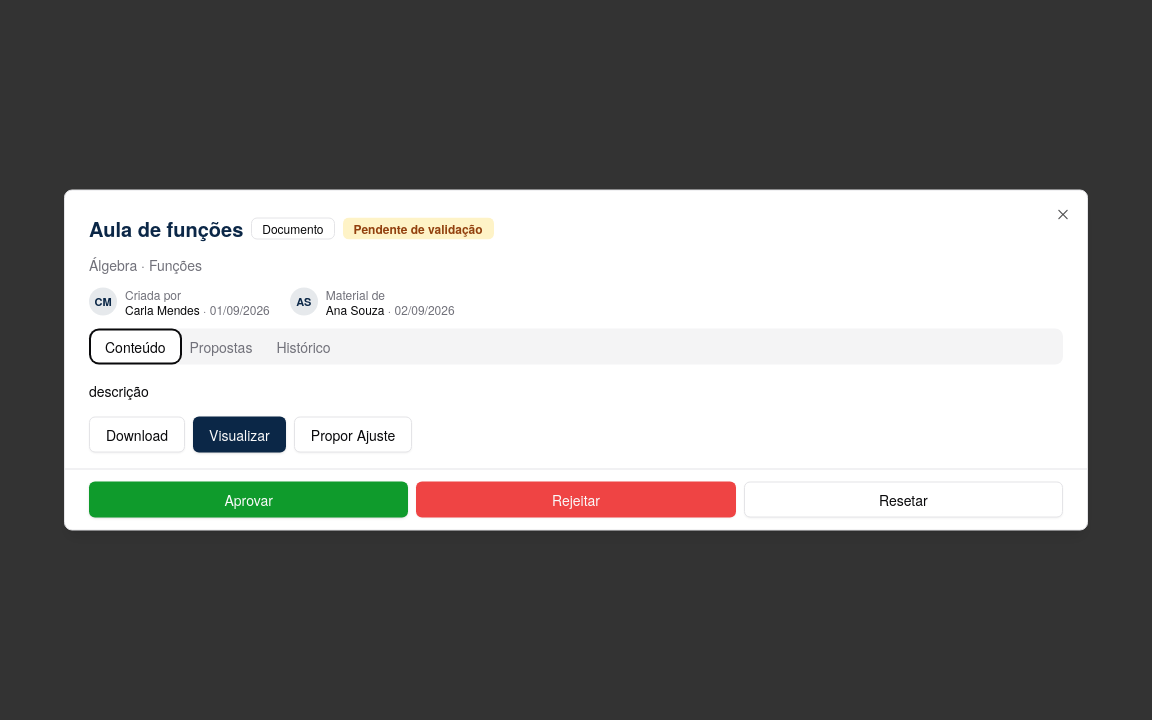
Test: DemandaModal — aba Histórico (050/04) › a aba Propostas não lista mais as versões do material
Press the mouse on the tab "Propostas" at (221, 346), box left=178, top=332, right=264, bottom=360
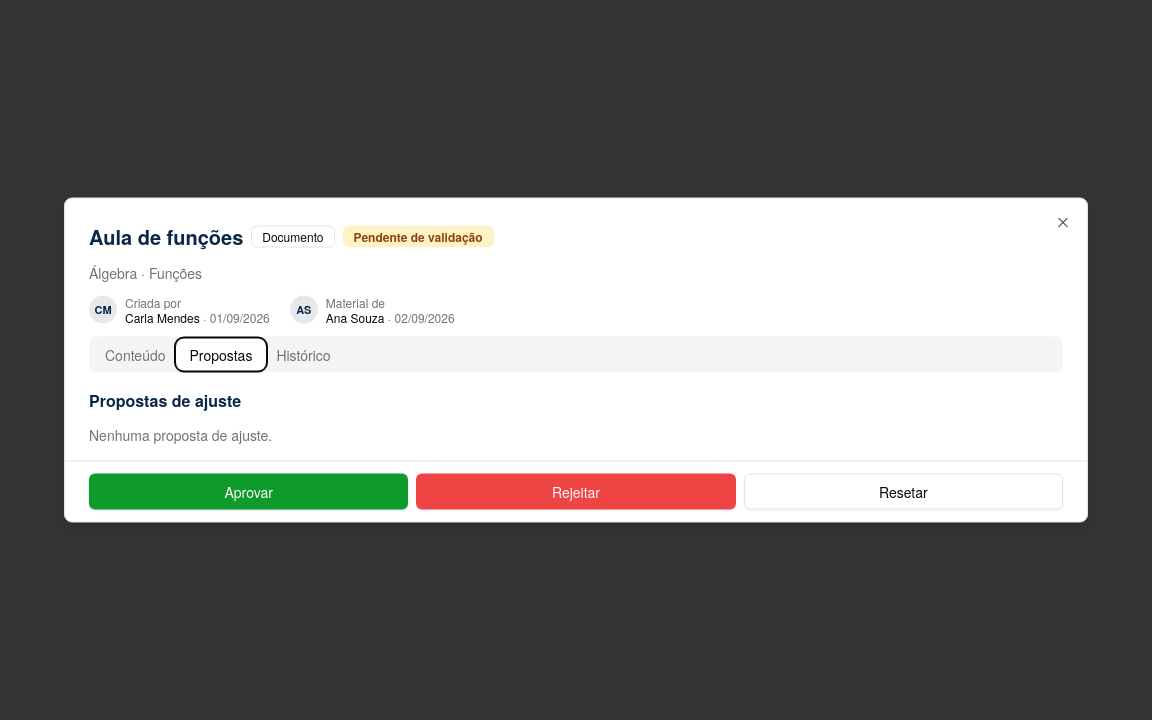
Check: the text "Nenhuma proposta de ajuste." is shown, box left=89, top=424, right=272, bottom=444
